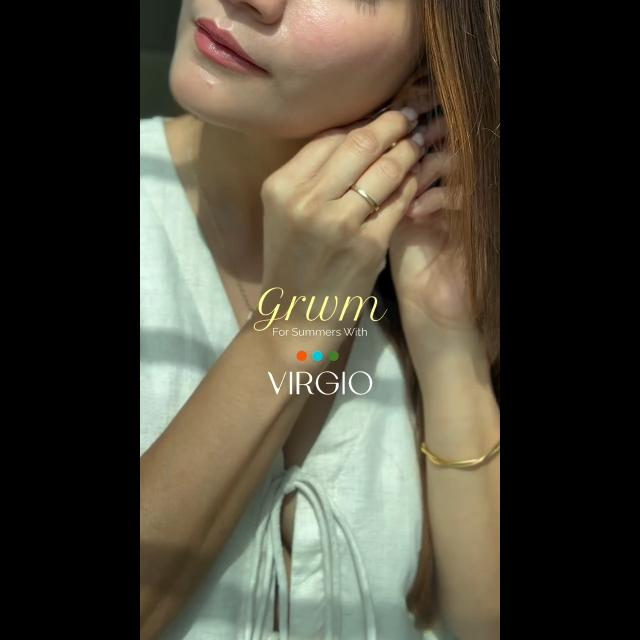ring: (347, 183, 379, 213)
